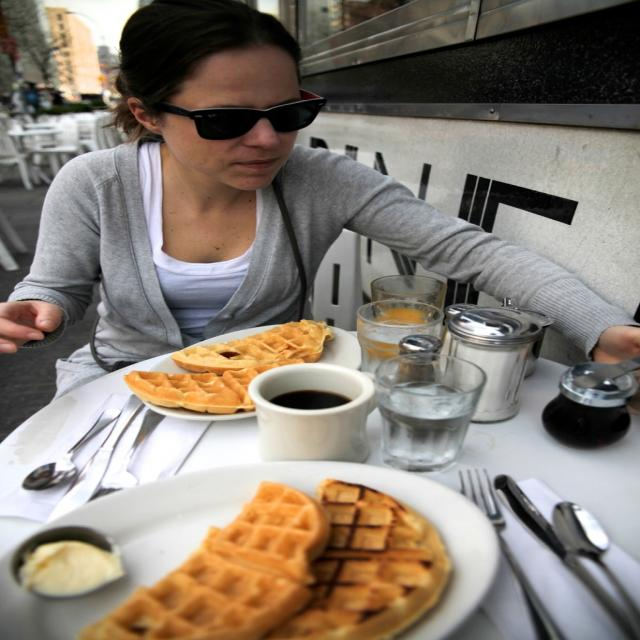Coffee: (254, 372, 358, 410)
Tea: (270, 385, 354, 416)
